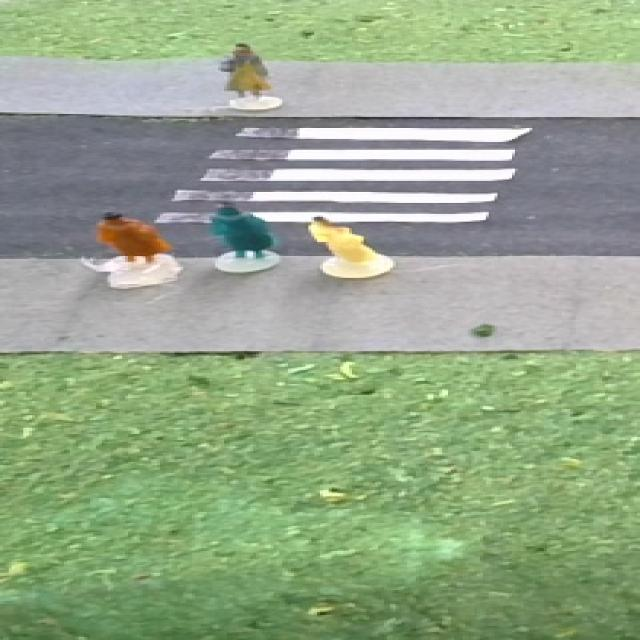person: (94, 205, 185, 290), (196, 196, 291, 274), (299, 208, 395, 282), (214, 42, 286, 116)
